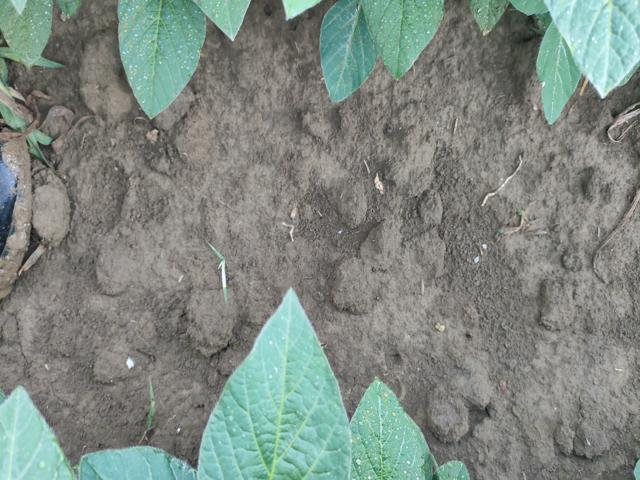bad weed: (122, 371, 175, 439), (203, 236, 253, 304), (8, 99, 56, 159)
